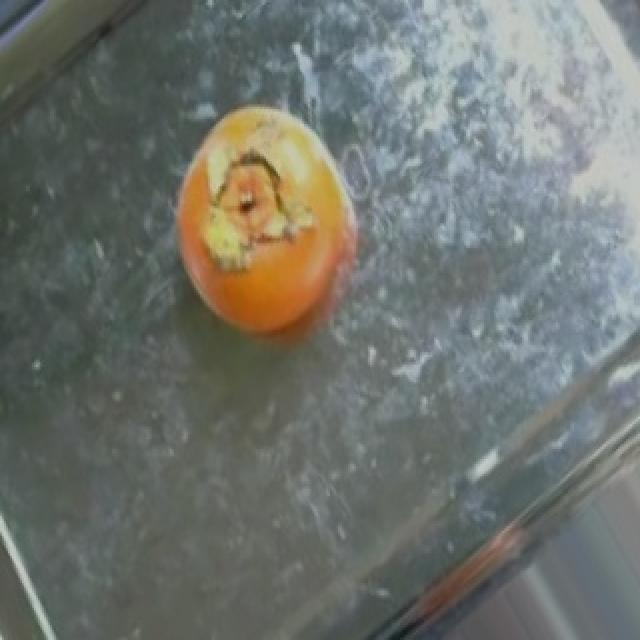Fruit: (150, 102, 382, 377), (0, 0, 190, 72)
